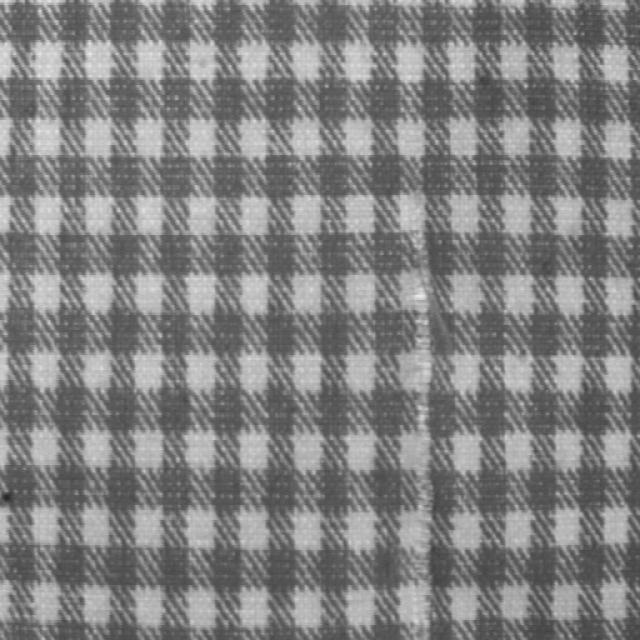Thread-Defect: (401, 205, 438, 639)
